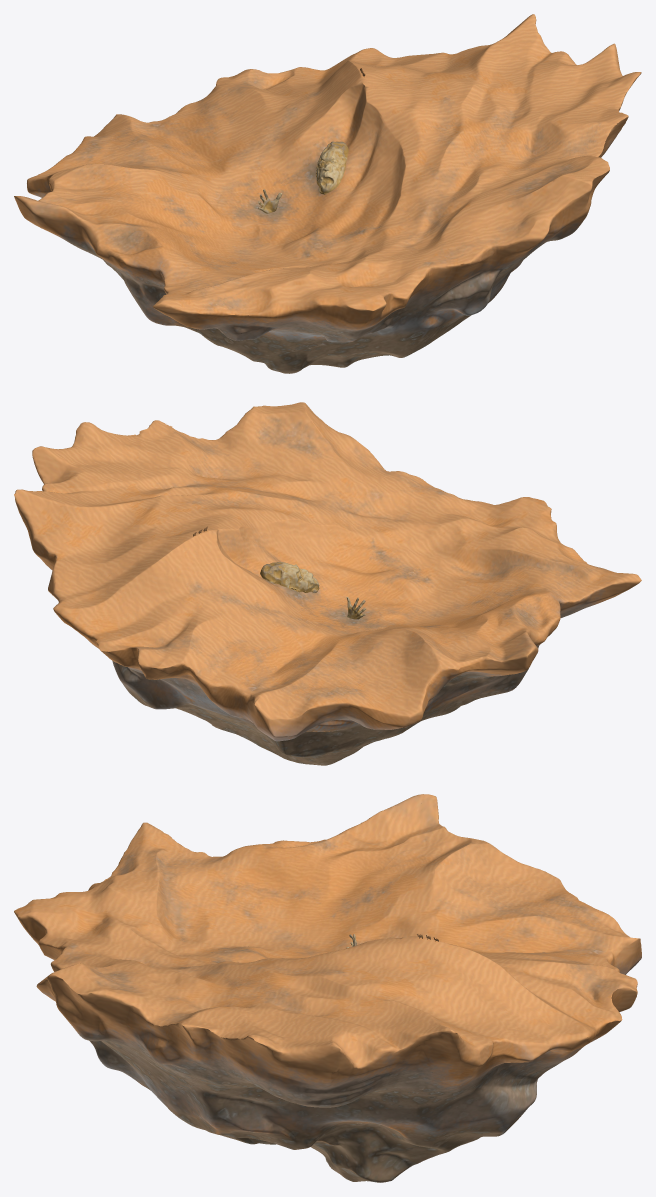
File: 04_sculptjanuary18_-_desert.glb
The picture shows the model from 3 angles, top to bottom: view 1: azimuth 30°, elevation 25°; view 2: azimuth 150°, elevation 25°; view 3: azimuth 270°, elevation 25°; orthographic projection. The views are drawn at different scales.
Visible parts, largest first — view 1: g (×2); view 2: g (×2); view 3: g.
Part boxes in pixels (bbox=[...]): g (×2): bbox=[14, 14, 641, 373]; g (×2): bbox=[14, 402, 641, 765]; g: bbox=[14, 794, 641, 1182].
Size of the model in its own units: 2 by 0.8624 by 1.73.
Materials: 1 (1 with a texture image).
